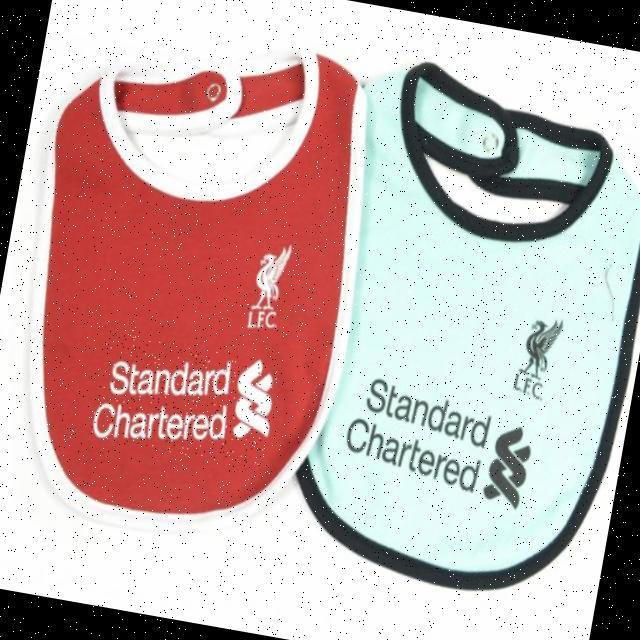Standard Chartered: (339, 370, 540, 509), (89, 332, 279, 468)
